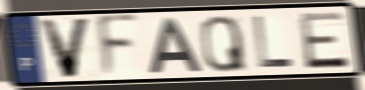A: (147, 16, 204, 75)
E: (297, 10, 352, 71)
F: (94, 11, 141, 82)
L: (252, 14, 297, 70)
Q: (198, 14, 249, 74)
V: (37, 16, 94, 80)
